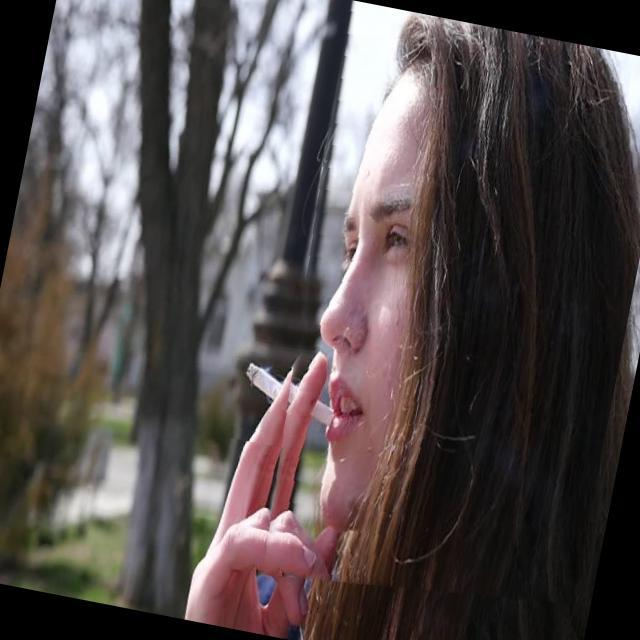cigarette: (218, 324, 338, 455)
